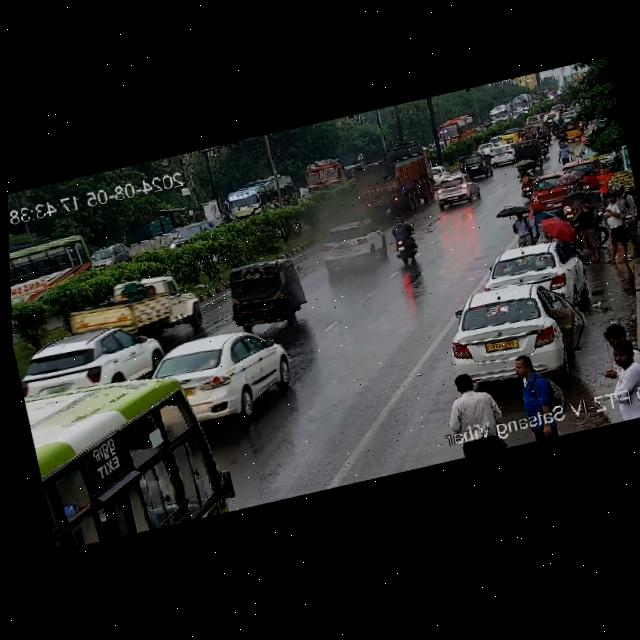bus: (24, 365, 234, 552), (9, 226, 101, 312), (221, 174, 300, 225), (437, 112, 477, 144), (487, 102, 515, 127), (509, 93, 532, 116), (529, 89, 551, 107)
car: (437, 269, 595, 396), (153, 324, 295, 435), (13, 317, 166, 403), (224, 245, 311, 335), (493, 232, 591, 305), (317, 217, 388, 268), (435, 169, 480, 210), (523, 169, 564, 212), (90, 241, 133, 273), (561, 152, 599, 183), (512, 138, 546, 172), (170, 221, 210, 249), (458, 150, 494, 179), (484, 141, 519, 166), (431, 160, 452, 186), (561, 116, 581, 141), (497, 131, 521, 147), (477, 140, 495, 154), (526, 112, 543, 123), (544, 111, 560, 121)
motorcycle: (388, 213, 420, 266), (516, 164, 535, 200), (551, 116, 567, 143), (521, 124, 547, 138), (536, 134, 550, 156), (456, 152, 467, 170), (483, 144, 491, 160)
person: (435, 369, 505, 457), (594, 182, 640, 266), (509, 353, 560, 419), (592, 341, 640, 402), (568, 195, 606, 266), (508, 203, 539, 247), (594, 164, 615, 193), (566, 176, 589, 195), (556, 141, 571, 163)
truck: (63, 269, 204, 349), (347, 137, 437, 223), (302, 153, 357, 196)
